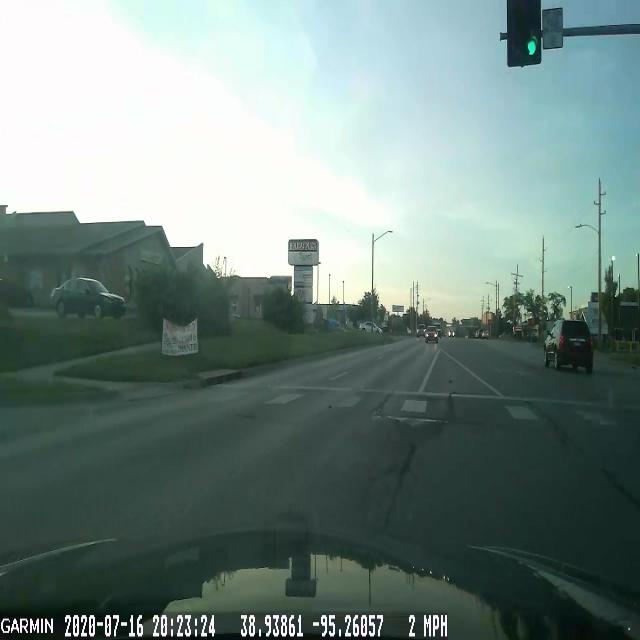Pothole: (374, 410, 457, 432)
